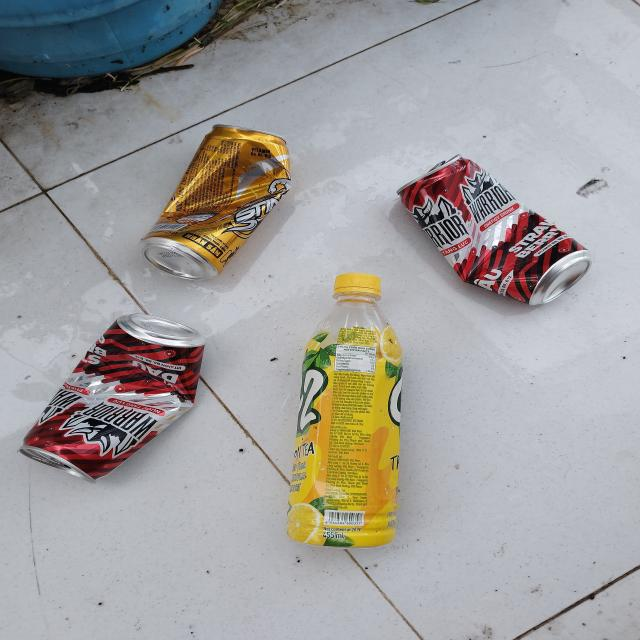bottle: (288, 273, 402, 549)
can: (18, 313, 205, 484), (395, 154, 593, 306), (142, 125, 292, 280)
